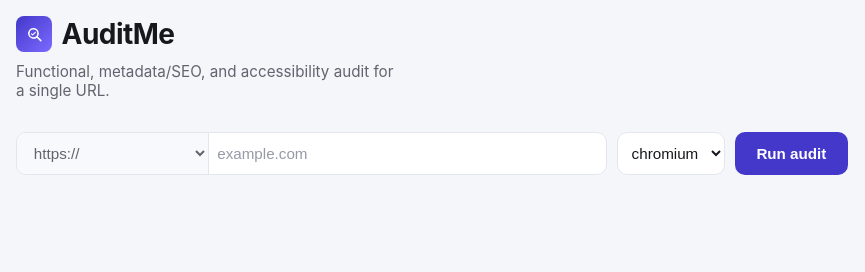
App › shows the API error message when the request fails
Type "nope" into the field with placeholder "example.com" at (408, 153), box [209, 133, 606, 174]
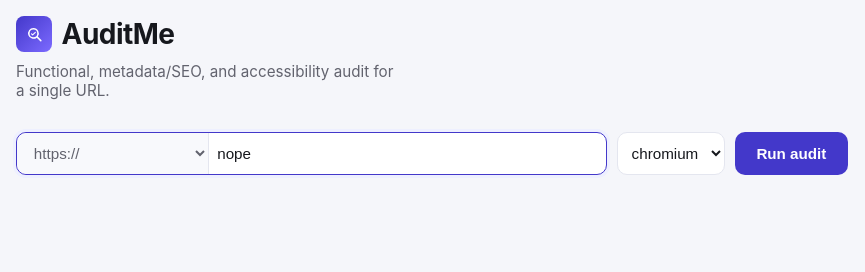
Click the button "Run audit" at (791, 153), box [735, 132, 848, 175]
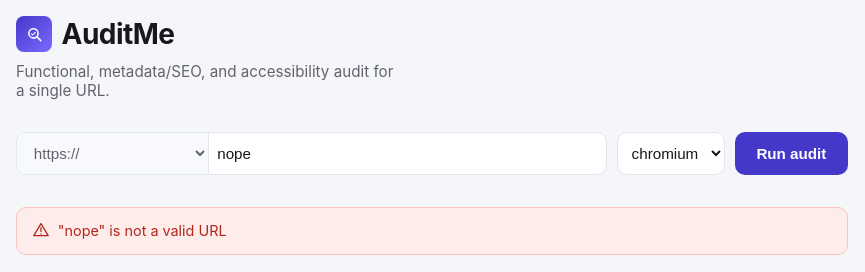
Check: the text "\"nope\" is not a valid URL" is shown, box [16, 207, 848, 255]
